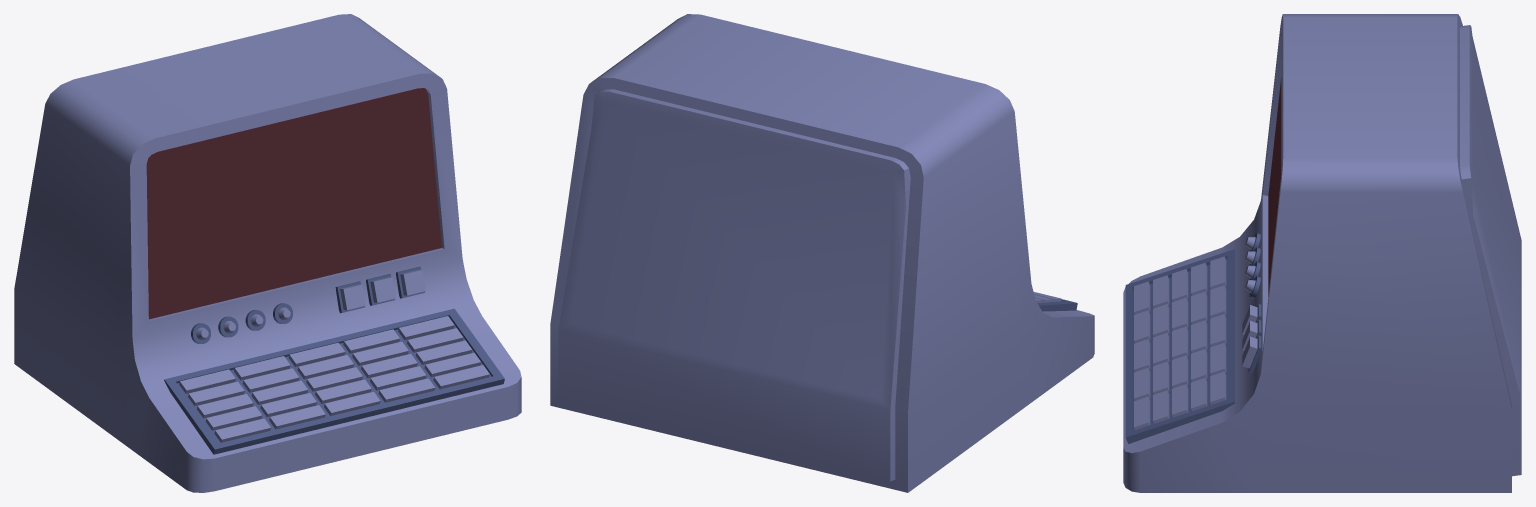
The model's file is ORDICODE.fbx.
3 views of the same model, side by side, from view 1: azimuth 30°, elevation 25°; view 2: azimuth 150°, elevation 25°; view 3: azimuth 270°, elevation 25° (orthographic). The views are drawn at different scales.
Visible parts, largest first — view 1: Cube.086, Cube.087, Cylinder.037, Cube.211, Cube.210, Cube.088; view 2: Cube.086; view 3: Cube.086, Cube.087, Cylinder.037, Cube.088.
Part boxes in pixels (<box>): Cube.086: <box>14,14,521,492</box>; Cube.087: <box>164,308,504,454</box>; Cylinder.037: <box>191,303,292,343</box>; Cube.211: <box>335,281,365,313</box>; Cube.210: <box>366,274,395,305</box>; Cube.088: <box>396,266,425,298</box>; Cube.086: <box>550,14,1094,492</box>; Cube.086: <box>1123,14,1521,492</box>; Cube.087: <box>1125,249,1234,443</box>; Cylinder.037: <box>1245,233,1260,298</box>; Cube.088: <box>1242,335,1261,372</box>.
Size of the model in its own units: 110 by 93.23 by 106.
